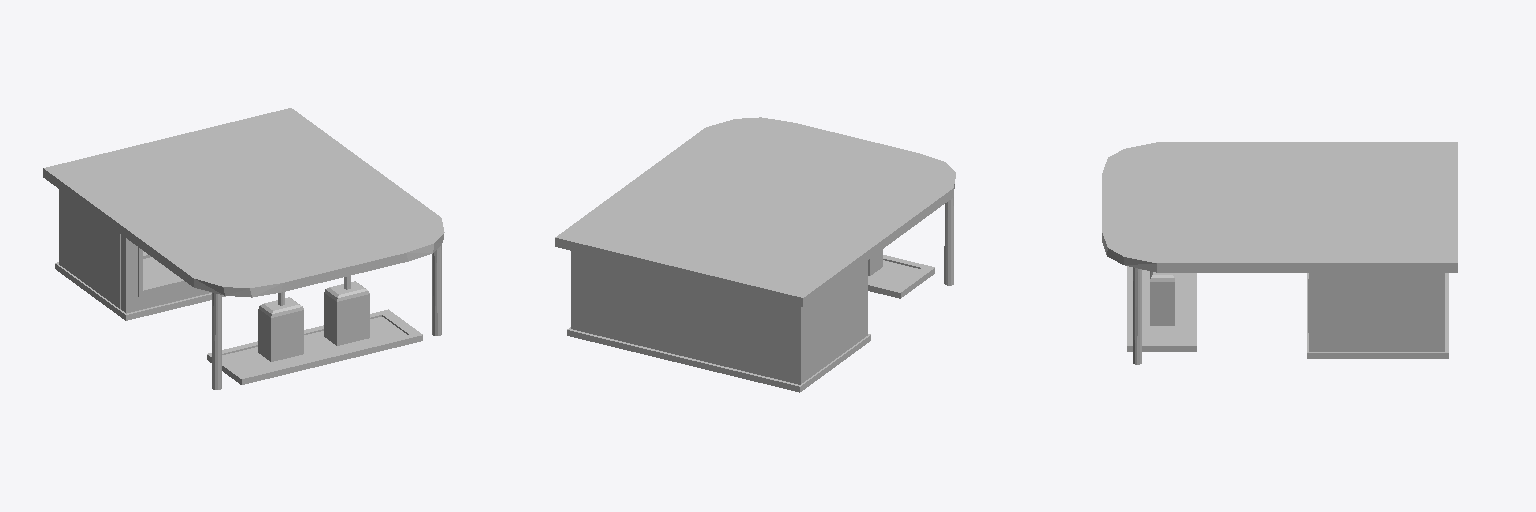
File: GasStationALL.obj
The picture shows the model from 3 angles: view 1: azimuth 30°, elevation 25°; view 2: azimuth 150°, elevation 25°; view 3: azimuth 270°, elevation 25°; orthographic projection.
Visible parts, largest first — view 1: roof, GasHub_Floor.001, GAShub, Cube.008, Cube.009, Cylinder, GasHub_Floor.002; view 2: roof, wall.., Cube.008, GasHub_Floor.002, GasHub_Floor.001, Cylinder; view 3: roof, Cube.007, GasHub_Floor.001, GasHub_Floor.002, GAShub, Cube.009, wall.., Cylinder.
Boxes of the visible parts, <box> form: roof: <box>43,108,444,297</box>; GasHub_Floor.001: <box>207,309,422,384</box>; GAShub: <box>258,281,369,361</box>; Cube.008: <box>59,189,120,308</box>; Cube.009: <box>121,235,211,313</box>; Cylinder: <box>212,244,441,389</box>; GasHub_Floor.002: <box>55,257,225,320</box>; roof: <box>555,117,955,306</box>; wall..: <box>571,251,799,384</box>; Cube.008: <box>800,265,861,384</box>; GasHub_Floor.002: <box>567,327,870,392</box>; GasHub_Floor.001: <box>868,255,934,298</box>; Cylinder: <box>944,197,953,285</box>; roof: <box>1102,142,1457,272</box>; Cube.007: <box>1321,273,1433,351</box>; GasHub_Floor.001: <box>1127,266,1196,351</box>; GasHub_Floor.002: <box>1307,273,1448,358</box>; GAShub: <box>1150,271,1174,325</box>; Cube.009: <box>1308,273,1320,351</box>; wall..: <box>1434,273,1444,351</box>; Cylinder: <box>1133,267,1141,364</box>.
Size of the model in its own units: 12.82 by 5.24 by 15.88.